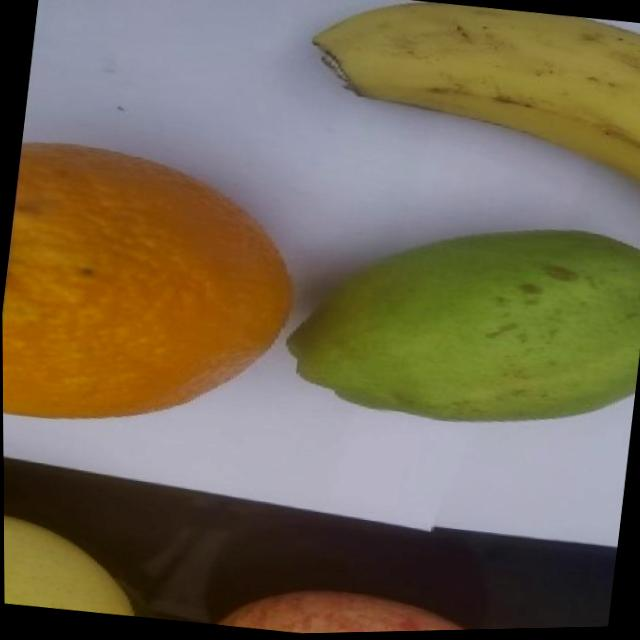Apple: (213, 572, 498, 636)
Banana: (295, 0, 640, 205)
Orange: (1, 131, 309, 447)
